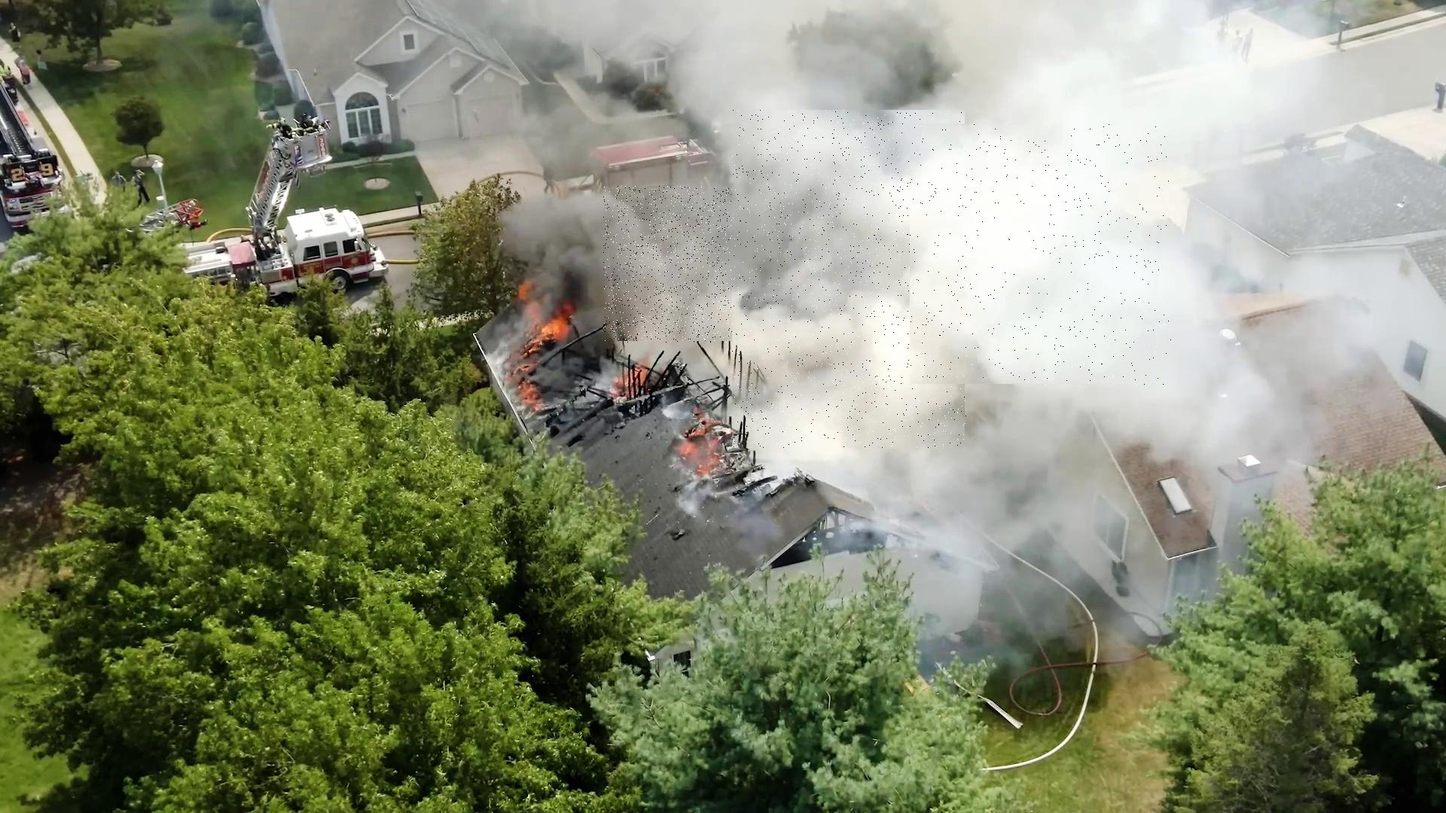smoke: (733, 110, 967, 449), (912, 124, 1172, 386), (603, 187, 876, 343)
